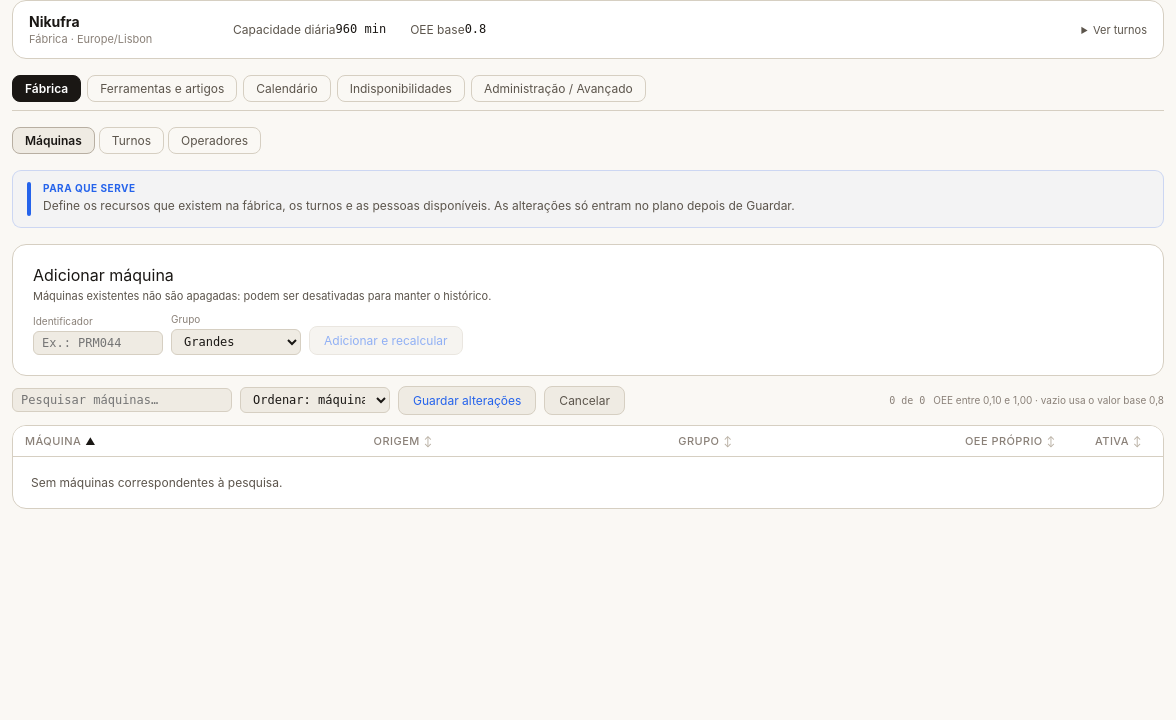
Scenario: Configuração › respeita a decisão approval_required ao repor o setup de uma ferramenta para 1 hora
Click the button "Ferramentas e artigos" at (162, 88), box [87,75,237,102]
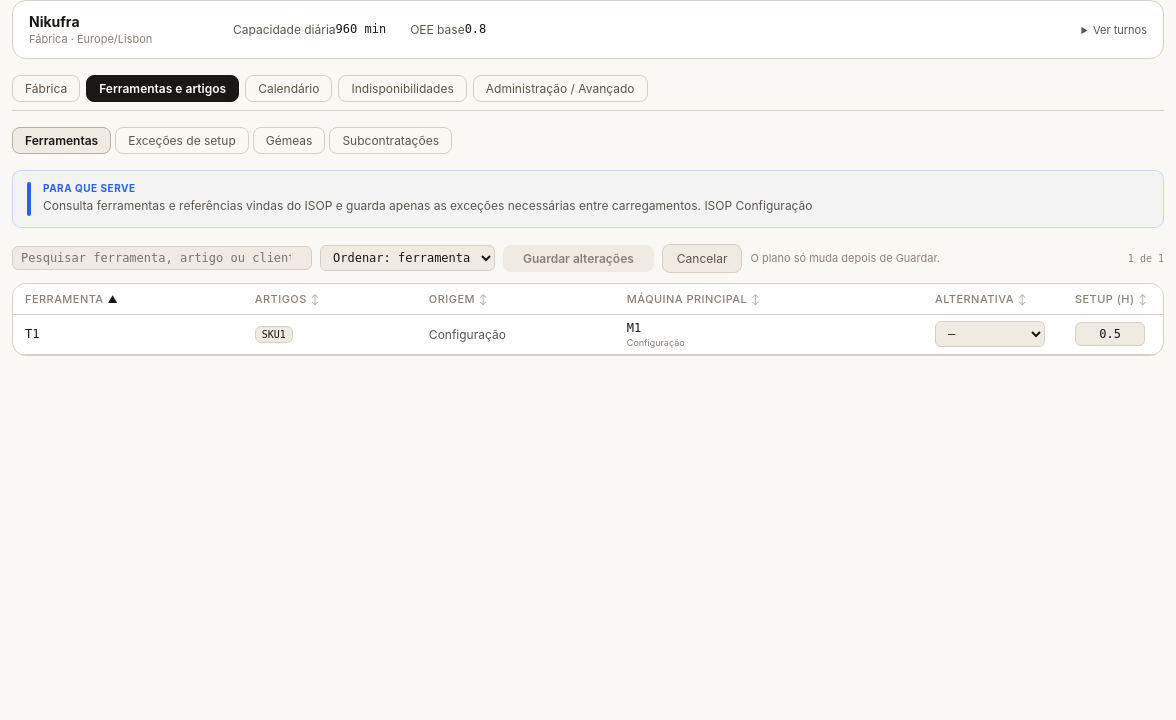
Replace the text in the number field with "1" at (1110, 334), box [1075,322,1145,346]
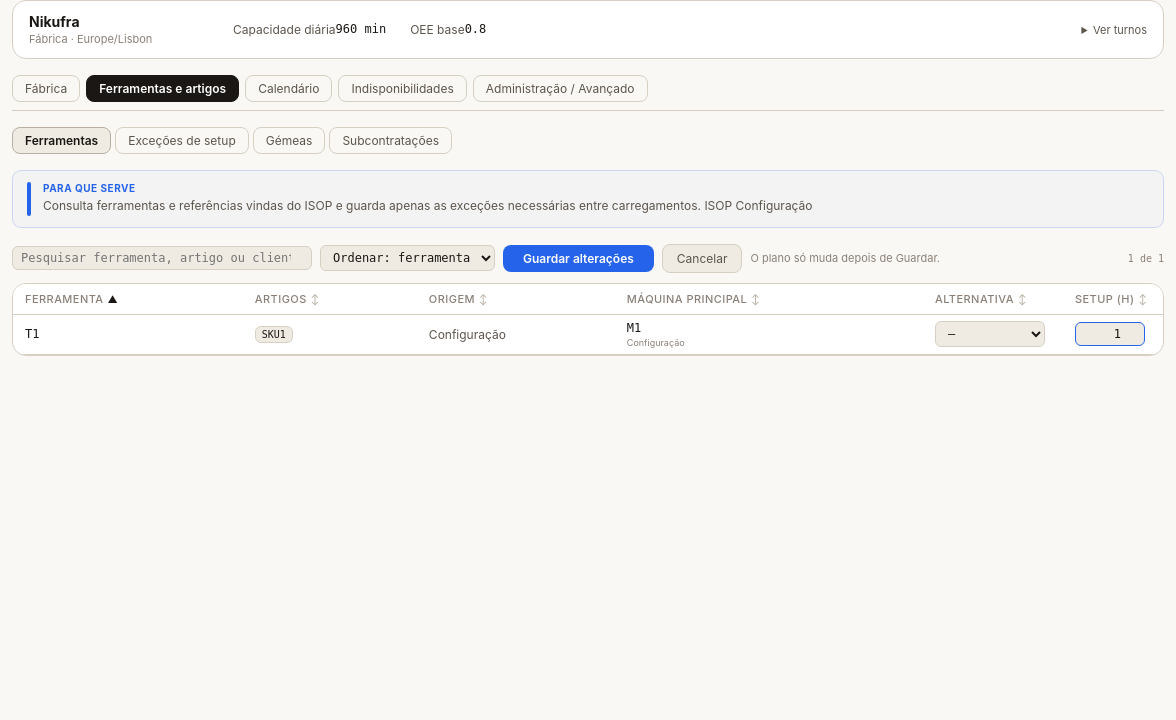
Click the button "Guardar alterações" at (578, 258), box [503,245,654,272]
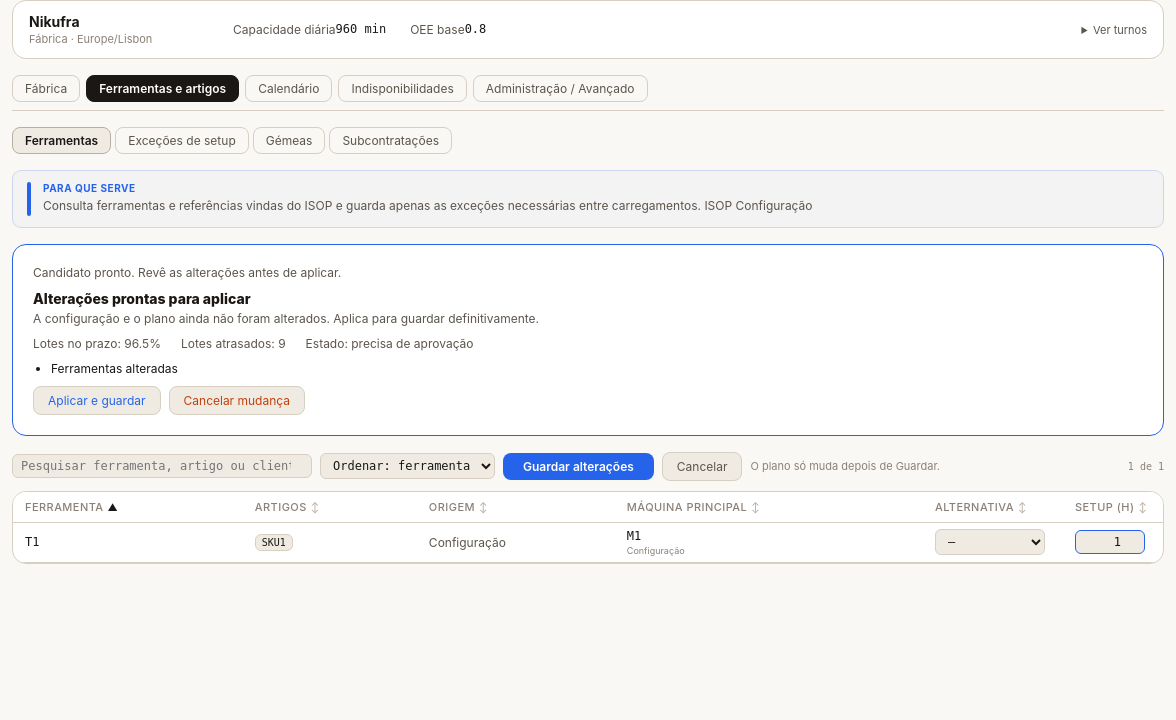
Expected: the button "Aplicar e guardar" is enabled, [33,386,160,415]
